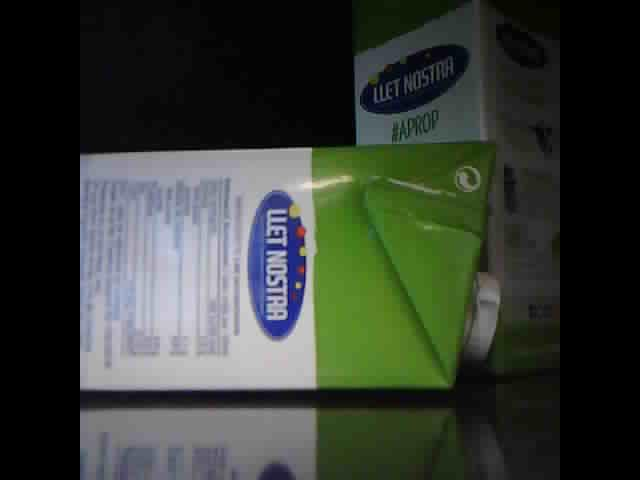leche: (83, 140, 509, 392), (353, 5, 559, 368)
